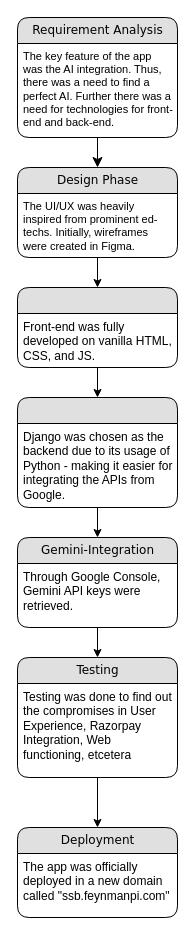
Image size: 195x938. Some labels were removed from this diagram. Each missing label, with the box of its shape:
Back-end Development: (16, 396, 178, 508)
Front-end Development: (16, 286, 178, 368)
